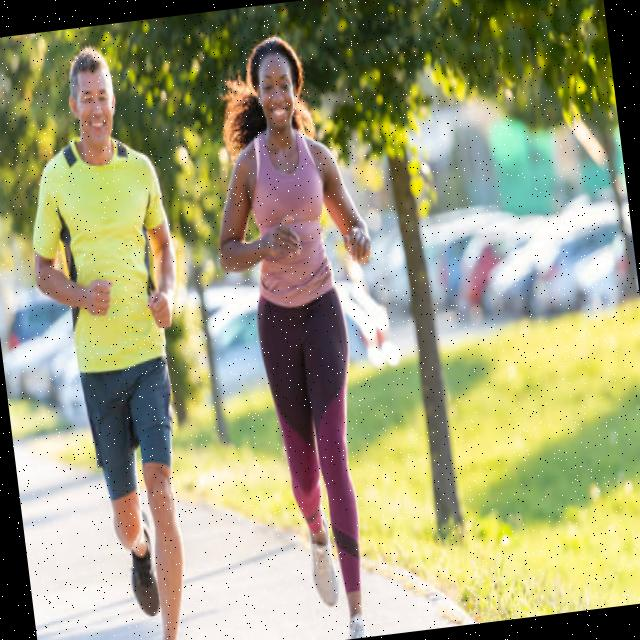Person: (194, 26, 419, 640), (7, 39, 226, 640)
